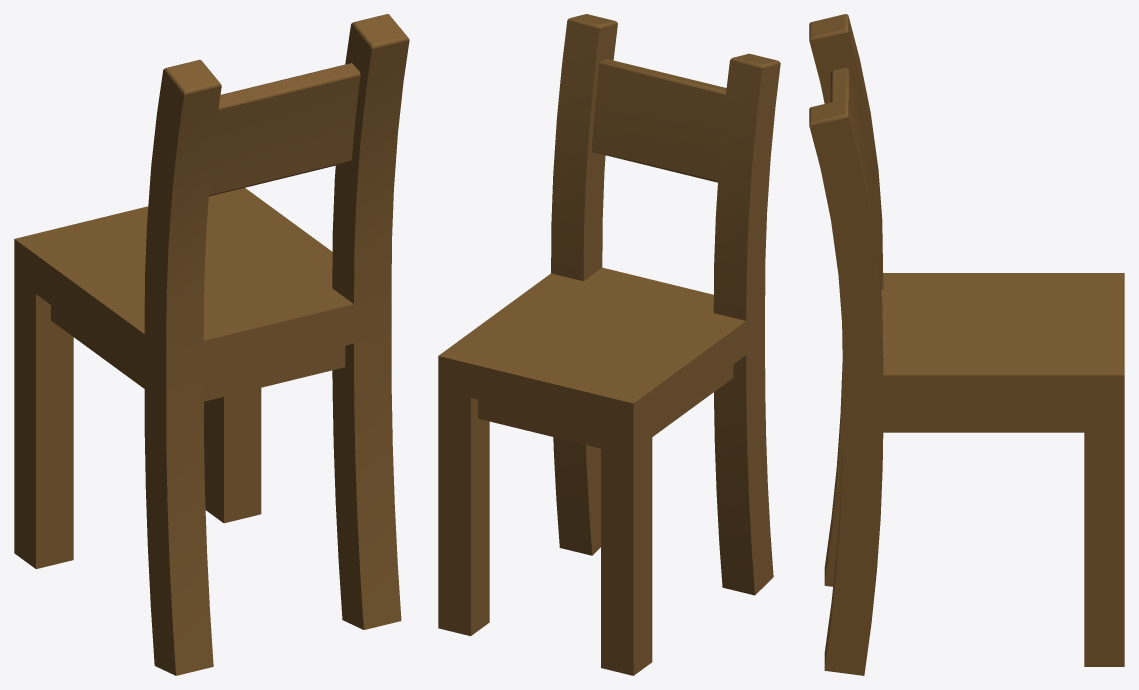
The model's file is holzstuhl.fbx.
3 renders of one model, left to right at view 1: azimuth 30°, elevation 25°; view 2: azimuth 150°, elevation 25°; view 3: azimuth 270°, elevation 25°, orthographic. The views are drawn at different scales.
Visible parts, largest first — view 1: sitz, Würfel_3_0_4, Würfel_3_0, Würfel_3_1_4, Würfel_3_2, Würfel_3_1, Würfel_1_3, Würfel_3_3, Würfel_4, Würfel_1; view 2: sitz, Würfel_3_0, Würfel_3_2, Würfel_1_3, Würfel_3_1, Würfel_3_3, Würfel_3_0_4, Würfel_3_1_4, Würfel_3, Würfel_1; view 3: sitz, Würfel_3_1, Würfel_3_1_4, Würfel_3_3, Würfel_3_0, Würfel_2, Würfel_3_0_4, Würfel_1_3.
Boxes of the visible parts, x1,y1,x2,y2 form: sitz: (14, 188, 391, 389); Würfel_3_0_4: (144, 374, 213, 675); Würfel_3_0: (144, 59, 221, 350); Würfel_3_1_4: (332, 334, 401, 629); Würfel_3_2: (14, 278, 73, 568); Würfel_3_1: (332, 14, 409, 304); Würfel_1_3: (209, 63, 360, 196); Würfel_3_3: (204, 388, 261, 523); Würfel_4: (203, 346, 345, 401); Würfel_1: (51, 305, 144, 388); sitz: (438, 267, 764, 437); Würfel_3_0: (713, 53, 780, 321); Würfel_3_2: (601, 424, 652, 675); Würfel_1_3: (591, 59, 726, 182); Würfel_3_1: (551, 14, 617, 281); Würfel_3_3: (438, 390, 489, 636); Würfel_3_0_4: (714, 341, 773, 595); Würfel_3_1_4: (553, 437, 600, 555); Würfel_3: (478, 399, 600, 448); Würfel_1: (652, 365, 733, 436); sitz: (843, 273, 1124, 411); Würfel_3_1: (809, 99, 883, 375); Würfel_3_1_4: (824, 410, 883, 675); Würfel_3_3: (1084, 411, 1124, 666); Würfel_3_0: (809, 14, 883, 289); Würfel_2: (883, 411, 1084, 432); Würfel_3_0_4: (824, 363, 842, 586); Würfel_1_3: (830, 68, 865, 171).
Bounding box in the file's own units: 120 × 308 × 157.
